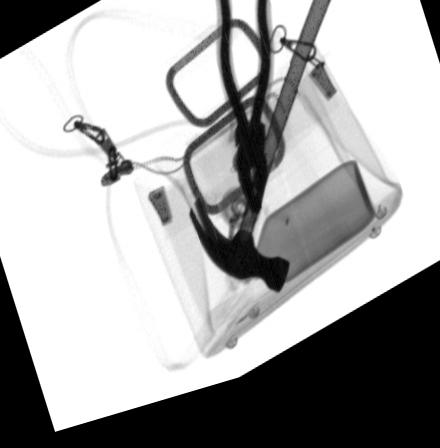Hammer: (187, 1, 335, 309)
Pliers: (213, 0, 275, 227)
